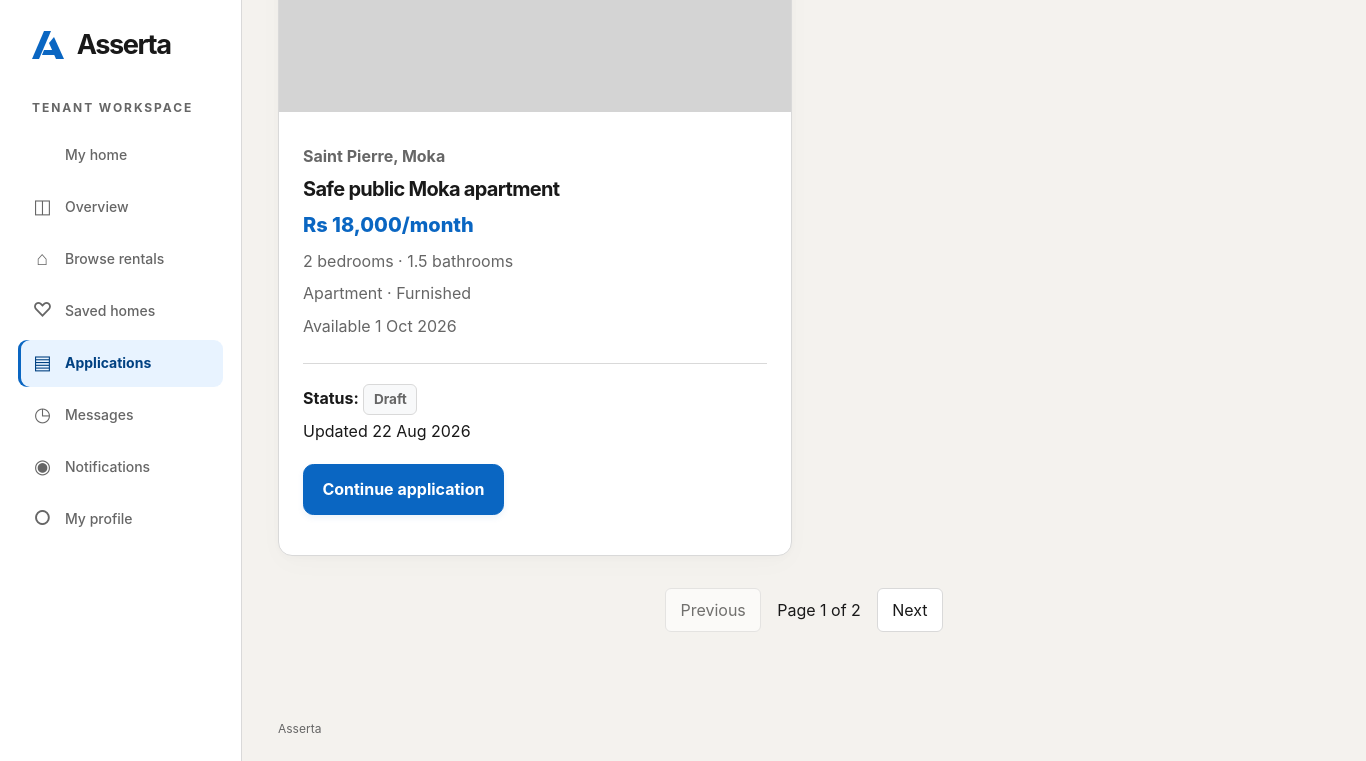
Test case: tenant applications list › supports pagination and an accessible empty state
(page scrolled)
Expected: the heading "Safe public Moka apartment" is shown, left=303, top=177, right=559, bottom=201
Click the button "Next": [910, 610] box left=877, top=588, right=943, bottom=632
(page scrolled)
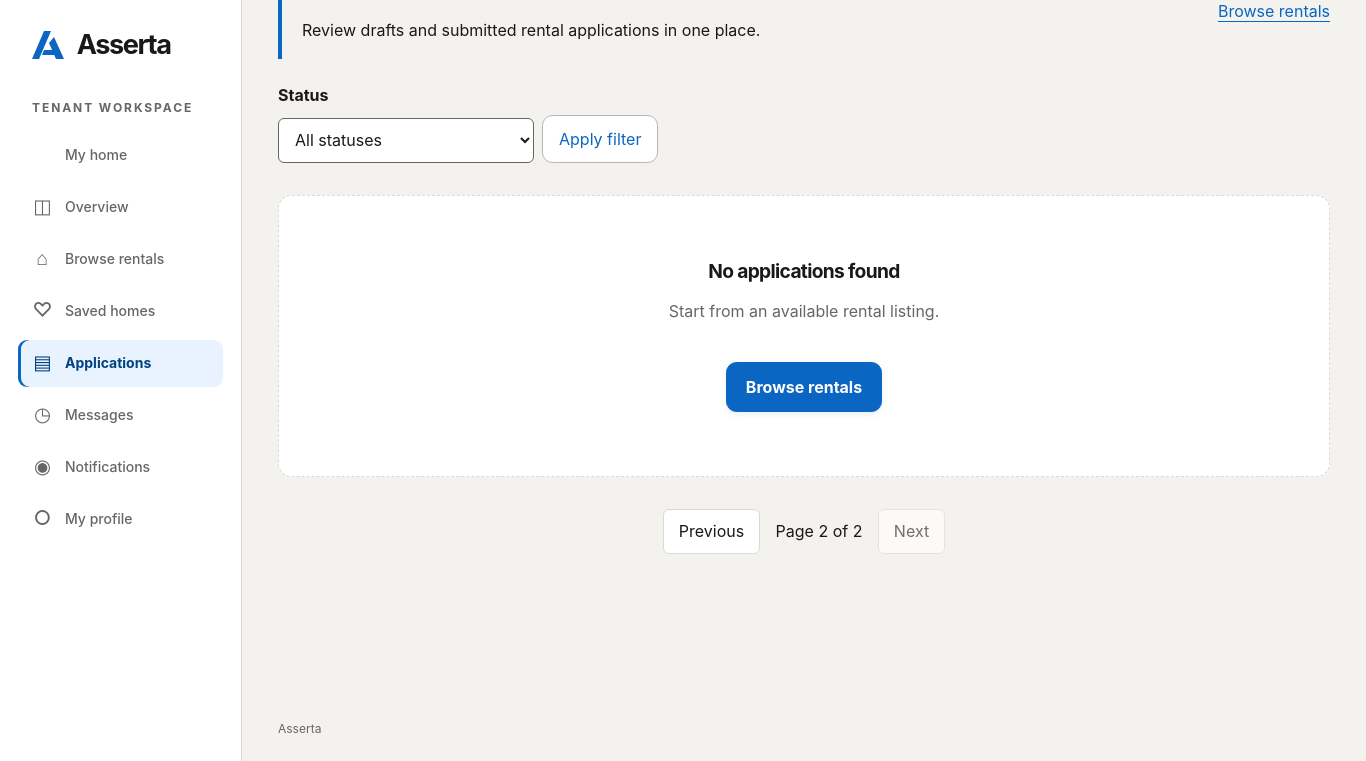
Expected: the heading "No applications found" is shown, left=708, top=259, right=900, bottom=283
